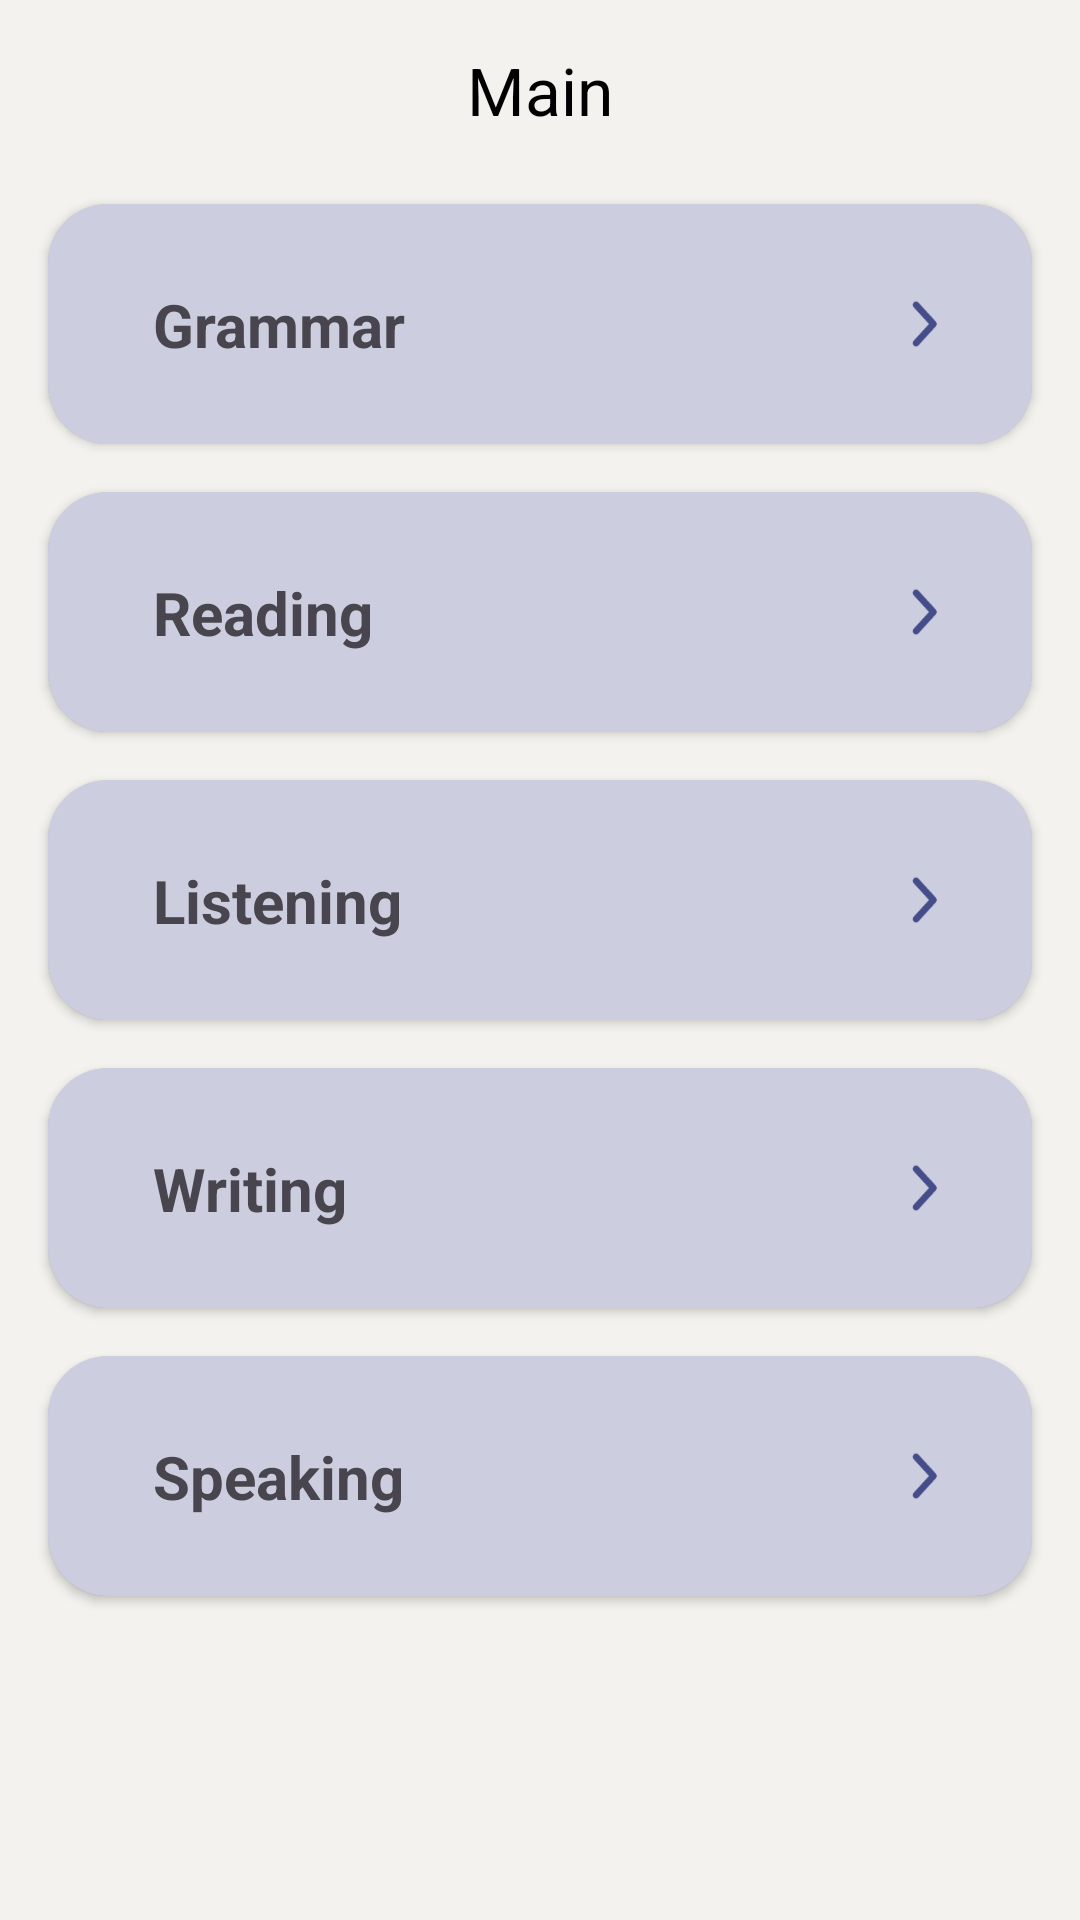

Icons on this 1080×1920 Android screen, each with the point to tap as point (x, y):
right: point (924, 324), point (924, 612), point (924, 900), point (924, 1188), point (924, 1476)
